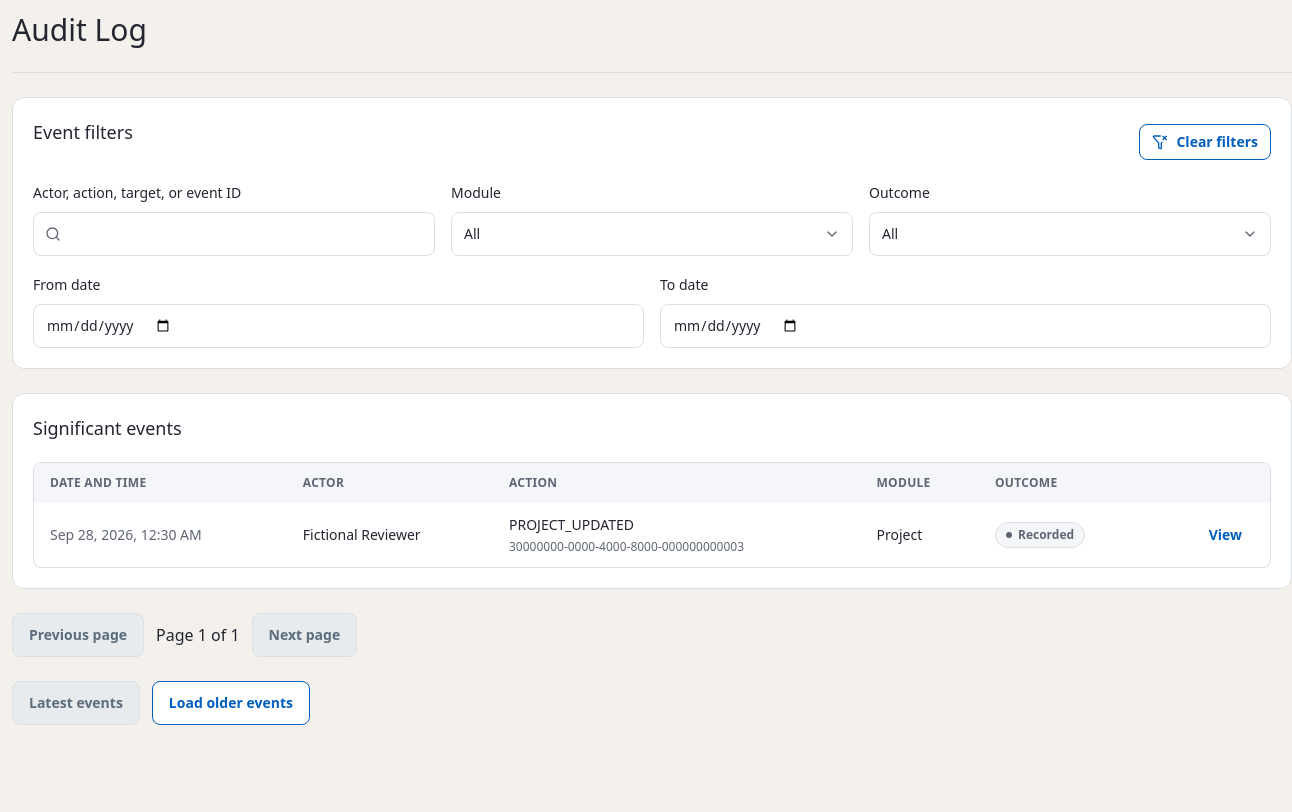
Scenario: audit screen current access and business date › filters the next Manila business date rather than the UTC calendar date
The width and height of the screenshot is (1292, 812).
Type "2026-09-28" into the date field labelled "From date" at (338, 326), box [33,304,644,348]
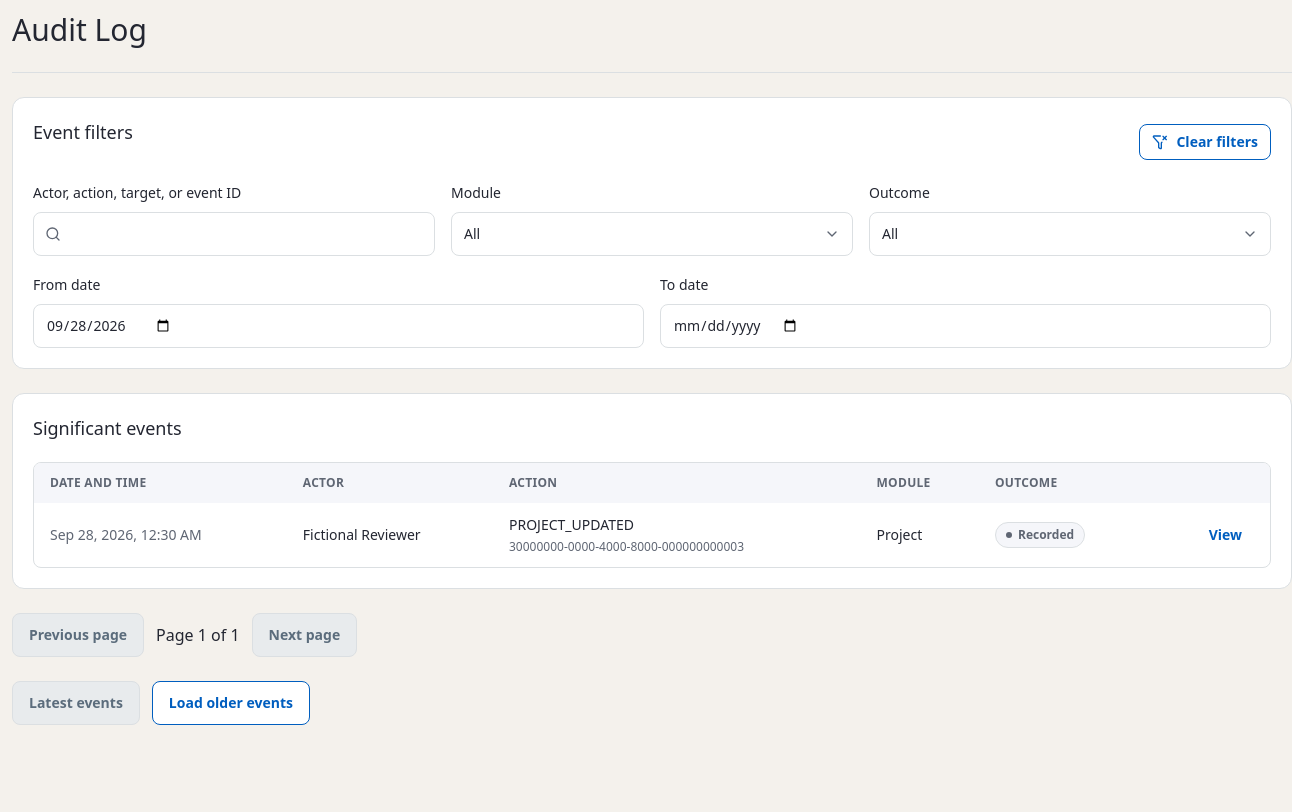
Type "2026-09-28" into the date field labelled "To date" at (966, 326), box [660,304,1271,348]
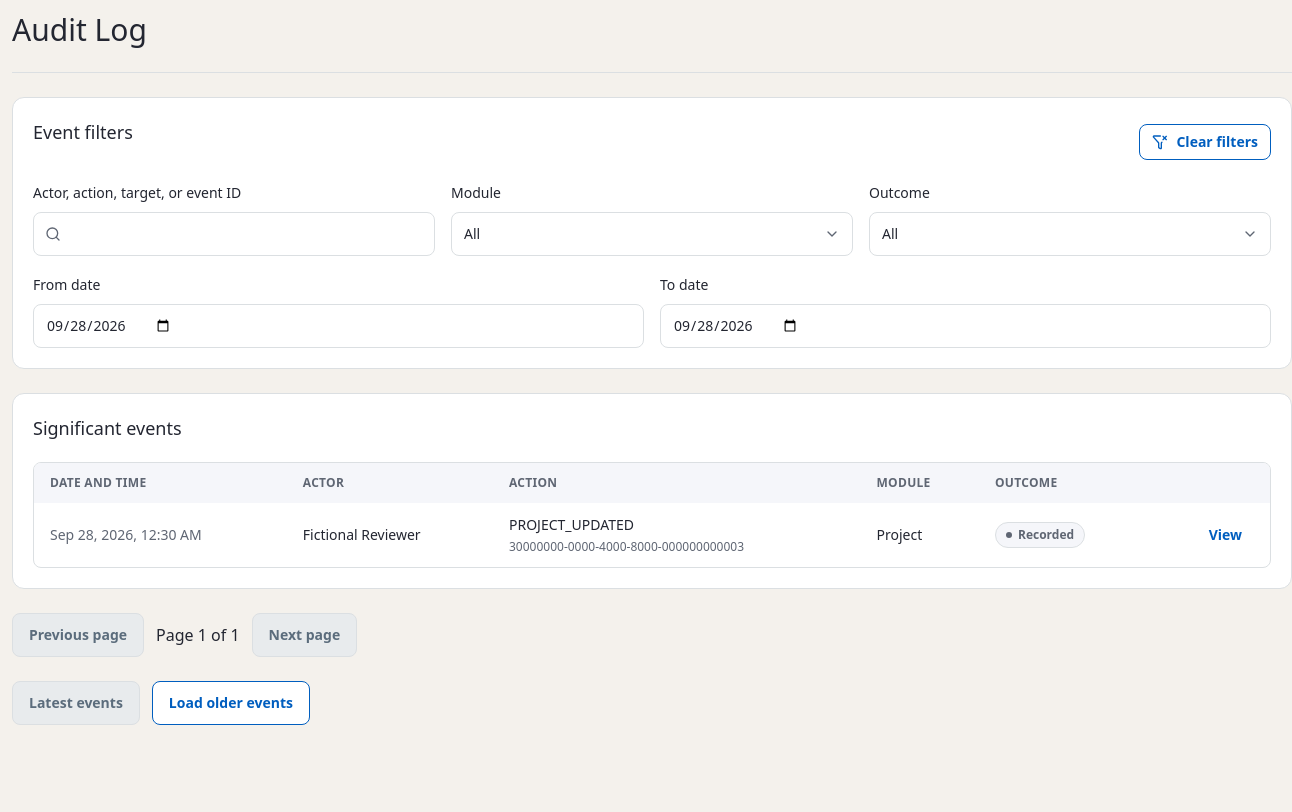
Expected: the text "PROJECT_UPDATED" is shown, [509,515,634,534]
Type "2026-09-27" into the date field labelled "From date" at (338, 326), box [33,304,644,348]
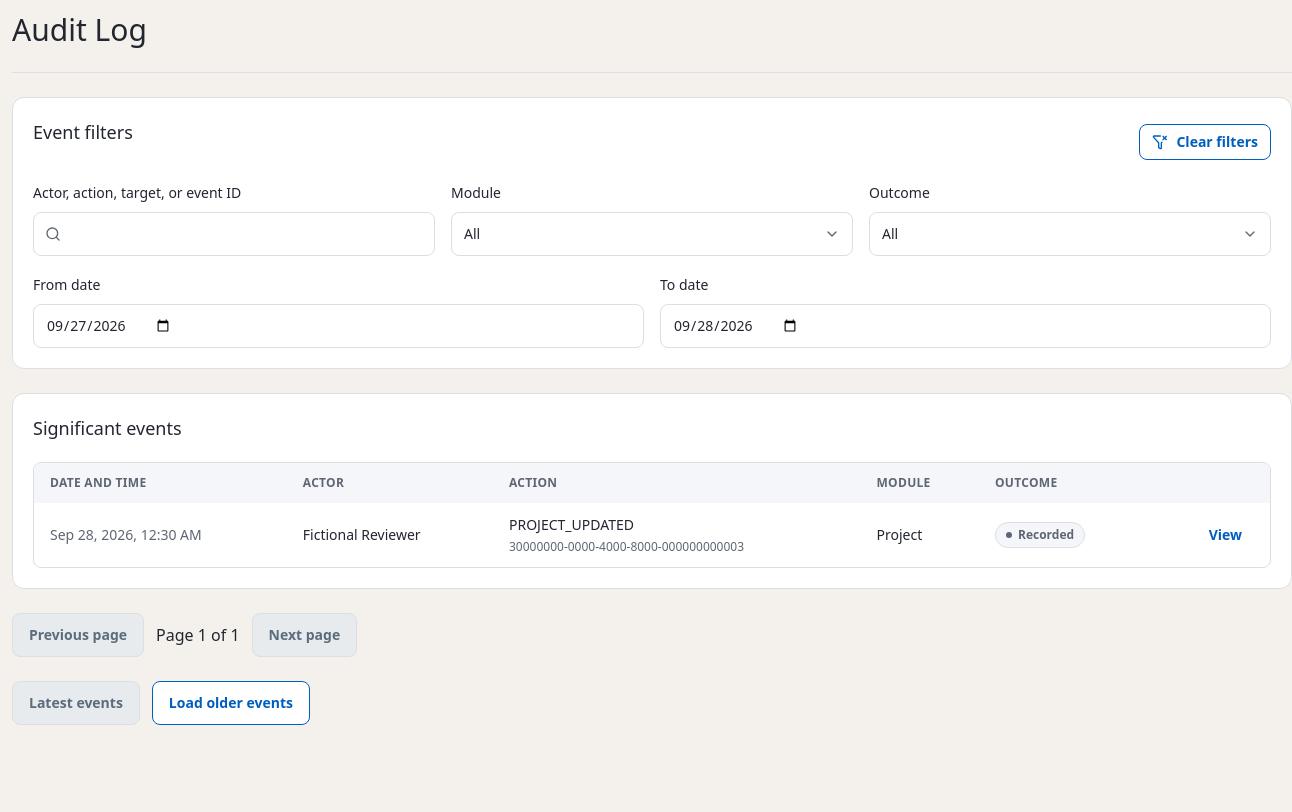
Type "2026-09-27" into the date field labelled "To date" at (966, 326), box [660,304,1271,348]
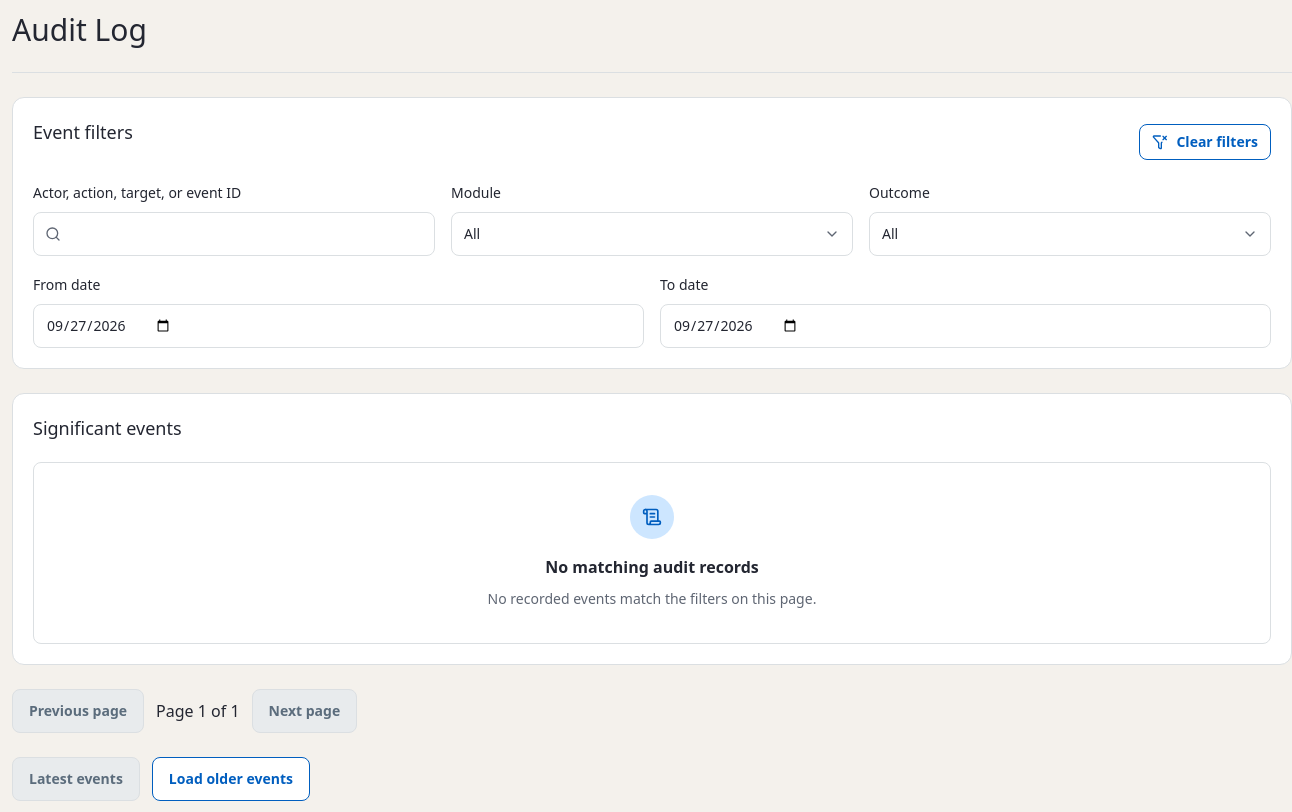
Result: the text "PROJECT_UPDATED" is gone
Result: the text "No matching audit records" is shown at [545,555,759,579]
